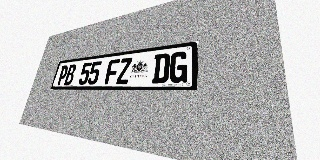5: (87, 61, 102, 85), (78, 62, 92, 85)
B: (64, 64, 77, 85)
D: (152, 53, 170, 83)
F: (104, 59, 120, 84)
G: (169, 51, 188, 83)
P: (56, 65, 69, 85)
Z: (116, 57, 132, 84)
